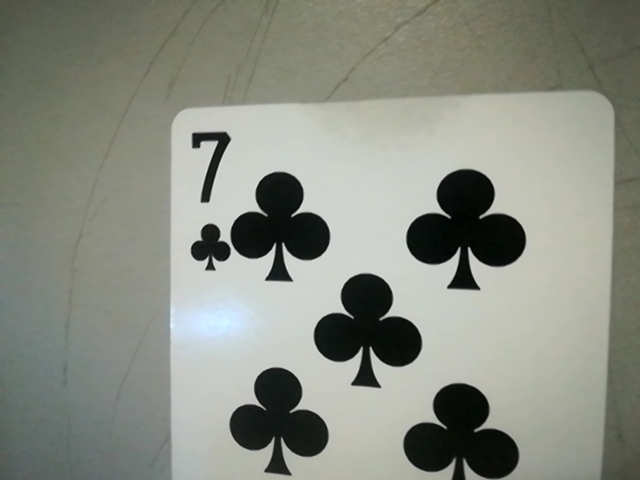mh 7: (170, 118, 235, 279)
